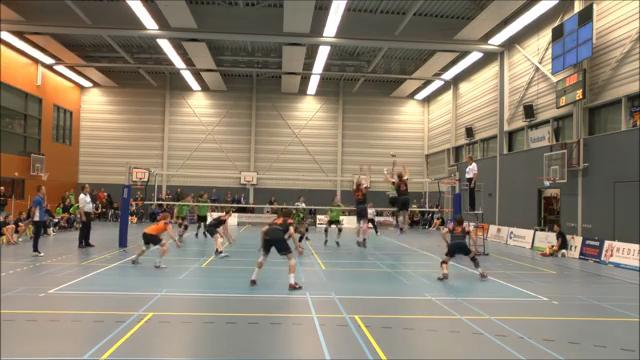Attack: (379, 157, 401, 227)
Block: (382, 162, 415, 236), (351, 161, 372, 248)
Player: (250, 209, 303, 289), (437, 216, 487, 280), (131, 213, 180, 267), (206, 208, 234, 257), (324, 196, 342, 246), (174, 194, 192, 242), (293, 196, 309, 242), (195, 193, 208, 237), (367, 203, 378, 234)
ball: (389, 151, 396, 157)
